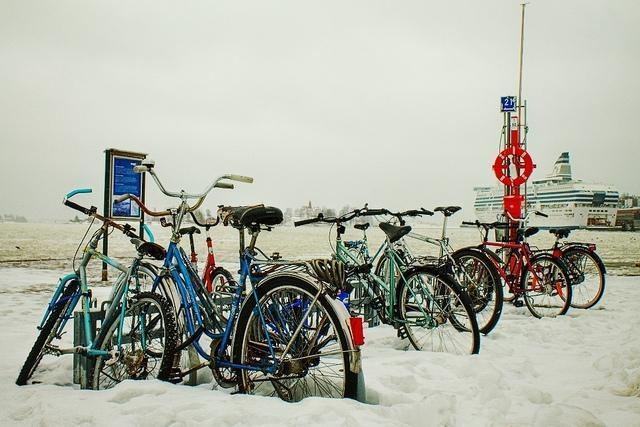bicycle: (134, 157, 367, 404), (14, 198, 177, 389), (290, 206, 484, 358), (113, 182, 234, 336), (382, 206, 504, 335), (461, 220, 571, 318), (504, 208, 608, 310), (180, 205, 238, 292)
